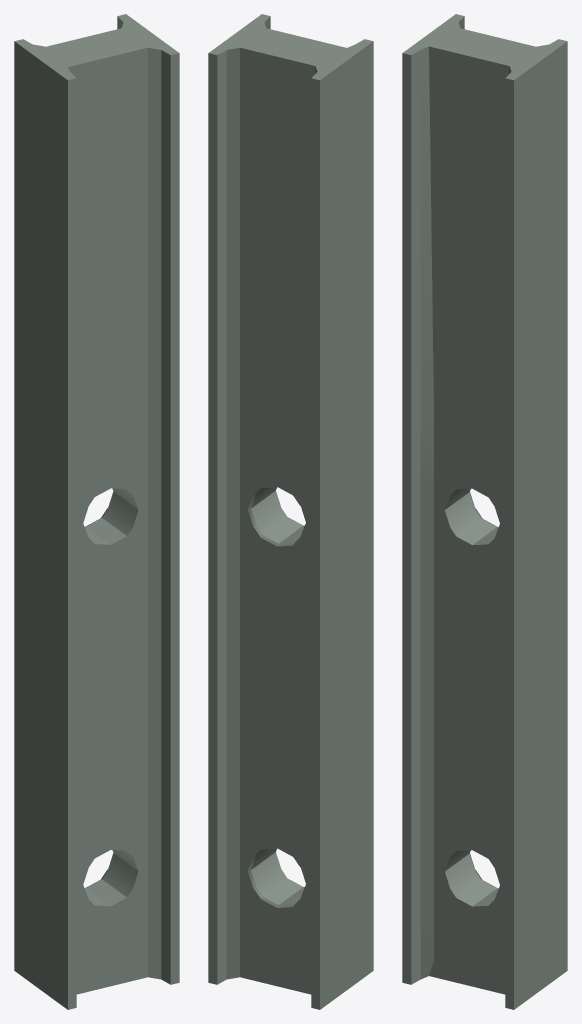
Rendered from SM_metal_short_rod_02.fbx.
The picture shows the model from 3 angles, left to right: view 1: azimuth 30°, elevation 25°; view 2: azimuth 150°, elevation 25°; view 3: azimuth 330°, elevation 25°; orthographic projection.
Visible parts, largest first — view 1: metal_short_rod_02; view 2: metal_short_rod_02; view 3: metal_short_rod_02.
Boxes of the visible parts, x1=… form: metal_short_rod_02: x1=14, y1=14, x2=179, y2=1009; metal_short_rod_02: x1=208, y1=14, x2=373, y2=1009; metal_short_rod_02: x1=402, y1=14, x2=567, y2=1009.
Bounding box in the file's own units: 21.05 × 167 × 17.46.
